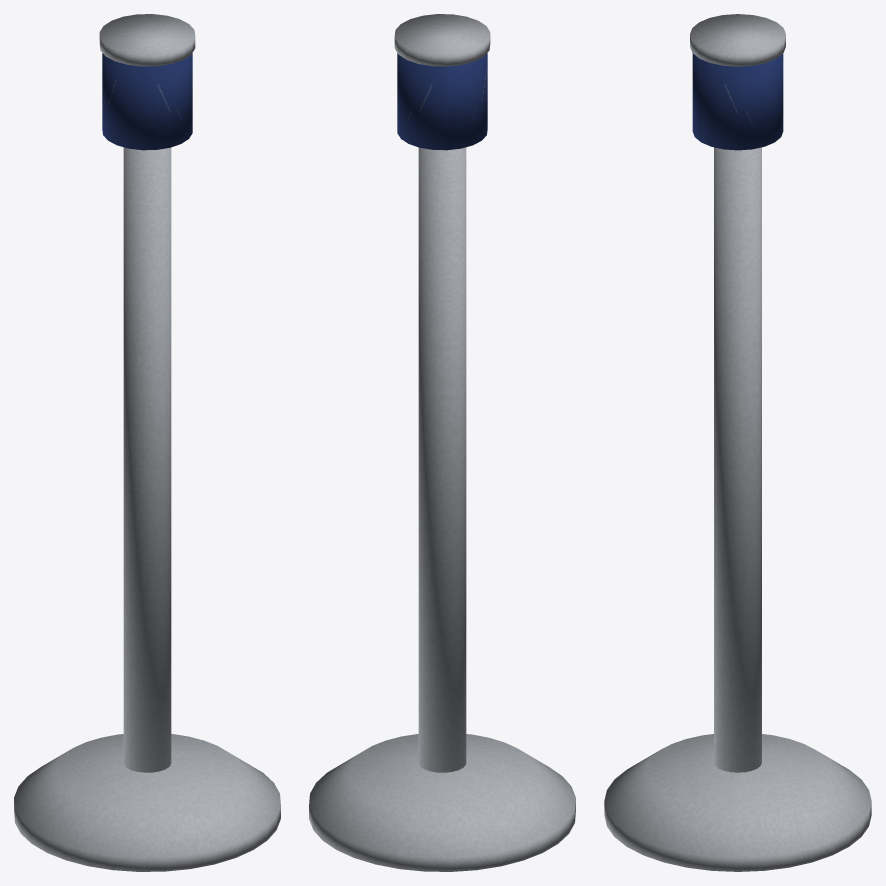
File: Stanchion.fbx
The picture shows the model from 3 angles, left to right: view 1: azimuth 30°, elevation 25°; view 2: azimuth 150°, elevation 25°; view 3: azimuth 270°, elevation 25°; orthographic projection.
Parts seen in each view (by area): view 1: Stanchion_Steel, Stanchion_MetalNavy; view 2: Stanchion_Steel, Stanchion_MetalNavy; view 3: Stanchion_Steel, Stanchion_MetalNavy.
Part boxes in pixels (box(x1,y1,x2,y2)): Stanchion_Steel: box(14, 14, 280, 871); Stanchion_MetalNavy: box(102, 53, 192, 150); Stanchion_Steel: box(309, 14, 575, 871); Stanchion_MetalNavy: box(397, 53, 487, 150); Stanchion_Steel: box(604, 14, 871, 871); Stanchion_MetalNavy: box(692, 53, 783, 150).
Bounding box in the file's own units: 100 × 323 × 100.
2 materials, 2 textured.
